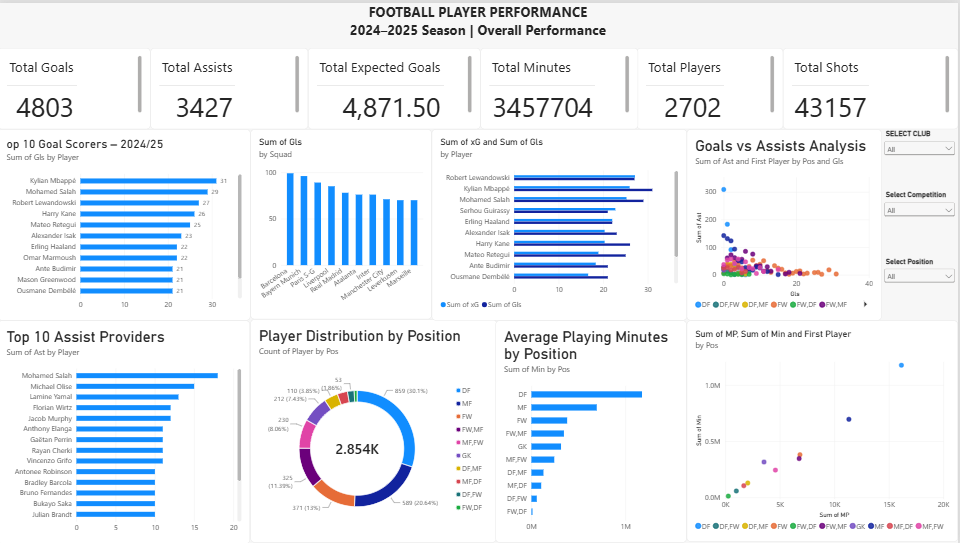

Layout of this report page (visuals, bound fields, positions):
{"tool":"powerbi","page":{"name":"Overall Performance","canvas":[1920,1080],"ordinal":0},"visuals":[{"type":"tableEx","fields":{"Values":["football_players_cleaned.Total Players"]},"box":[1277.5,90,292.5,162.5],"z":0},{"type":"tableEx","fields":{"Values":["football_players_cleaned.Total Minutes"]},"box":[965,90,315,162.5],"z":1000},{"type":"tableEx","fields":{"Values":["football_players_cleaned.Total Expected Goals"]},"box":[620,90,345,162.5],"z":2000},{"type":"tableEx","fields":{"Values":["football_players_cleaned.Total Assists"]},"box":[305,90,315,162.5],"z":3000},{"type":"tableEx","fields":{"Values":["football_players_cleaned.Total Goals"]},"box":[0,90,305,162.5],"z":4000},{"type":"tableEx","fields":{"Values":["football_players_cleaned.Total Shots"]},"box":[1570,90,350,162.5],"z":5000},{"type":"clusteredBarChart","title":"op 10 Goal Scorers – 2024/25","fields":{"Category":["football_players_cleaned.Player"],"Y":["Sum(football_players_cleaned.Gls)"]},"box":[0,252.5,505,382.5],"z":6000},{"type":"clusteredBarChart","title":"Top 10 Assist Providers","fields":{"Category":["football_players_cleaned.Player"],"Y":["Sum(football_players_cleaned.Ast)"]},"box":[0,634,504,446],"z":7000},{"type":"clusteredColumnChart","fields":{"Category":["football_players_cleaned.Squad"],"Y":["Sum(football_players_cleaned.Gls)"]},"box":[505,252.5,362.5,380],"z":8000},{"type":"donutChart","title":"Player Distribution by Position","fields":{"Category":["football_players_cleaned.Pos"],"Y":["CountNonNull(football_players_cleaned.Player)"]},"box":[504,632,492,446],"z":9000},{"type":"scatterChart","title":"Goals vs Assists Analysis","fields":{"Series":["football_players_cleaned.Pos"],"X":["football_players_cleaned.Gls"],"Y":["Sum(football_players_cleaned.Ast)"]},"box":[1378.2,252,389.5,382.4],"z":10000},{"type":"clusteredBarChart","fields":{"Category":["football_players_cleaned.Player"],"Y":["Sum(football_players_cleaned.xG)","Sum(football_players_cleaned.Gls)"]},"box":[867.5,252.5,510,382.5],"z":11000},{"type":"clusteredBarChart","title":"Average Playing Minutes by Position","fields":{"Category":["football_players_cleaned.Pos"],"Y":["Sum(football_players_cleaned.Min)"]},"box":[996,634,382,444],"z":12000},{"type":"scatterChart","fields":{"Series":["football_players_cleaned.Pos"],"X":["football_players_cleaned.MP"],"Y":["Sum(football_players_cleaned.Min)"]},"box":[1377.5,635,542.5,442.5],"z":13000},{"type":"textbox","box":[0,0,1920,90],"z":14000},{"type":"slicer","fields":{"Values":["football_players_cleaned.Squad"]},"box":[1767.7,252,151.6,123.4],"z":15000},{"type":"slicer","fields":{"Values":["football_players_cleaned.Comp"]},"box":[1767.7,375.4,151.6,132.2],"z":16000},{"type":"slicer","fields":{"Values":["football_players_cleaned.Pos"]},"box":[1767.7,507.6,151.6,125.1],"z":17000}]}

Visuals, with their boxes in screenshot pixels (x1, y1, x2, y2), scaled from the page's 1920x1080 canvas onto the 960x543 screenshot:
tableEx - football_players_cleaned.Total Players: box=[639, 45, 785, 127]
tableEx - football_players_cleaned.Total Minutes: box=[482, 45, 640, 127]
tableEx - football_players_cleaned.Total Expected Goals: box=[310, 45, 482, 127]
tableEx - football_players_cleaned.Total Assists: box=[152, 45, 310, 127]
tableEx - football_players_cleaned.Total Goals: box=[0, 45, 152, 127]
tableEx - football_players_cleaned.Total Shots: box=[785, 45, 959, 127]
"op 10 Goal Scorers – 2024/25" clusteredBarChart: box=[0, 127, 252, 319]
"Top 10 Assist Providers" clusteredBarChart: box=[0, 319, 252, 542]
clusteredColumnChart - football_players_cleaned.Squad x Sum(football_players_cleaned.Gls): box=[252, 127, 434, 318]
"Player Distribution by Position" donutChart: box=[252, 318, 498, 542]
"Goals vs Assists Analysis" scatterChart: box=[689, 127, 884, 319]
clusteredBarChart - football_players_cleaned.Player x Sum(football_players_cleaned.xG): box=[434, 127, 689, 319]
"Average Playing Minutes by Position" clusteredBarChart: box=[498, 319, 689, 542]
scatterChart - football_players_cleaned.Pos x football_players_cleaned.MP: box=[689, 319, 959, 542]
textbox: box=[0, 0, 959, 45]
slicer - football_players_cleaned.Squad: box=[884, 127, 959, 189]
slicer - football_players_cleaned.Comp: box=[884, 189, 959, 255]
slicer - football_players_cleaned.Pos: box=[884, 255, 959, 318]
